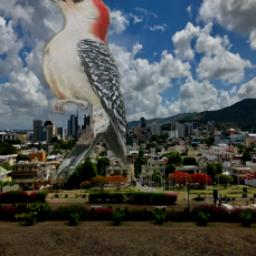Woodpecker: (26, 0, 127, 184)
